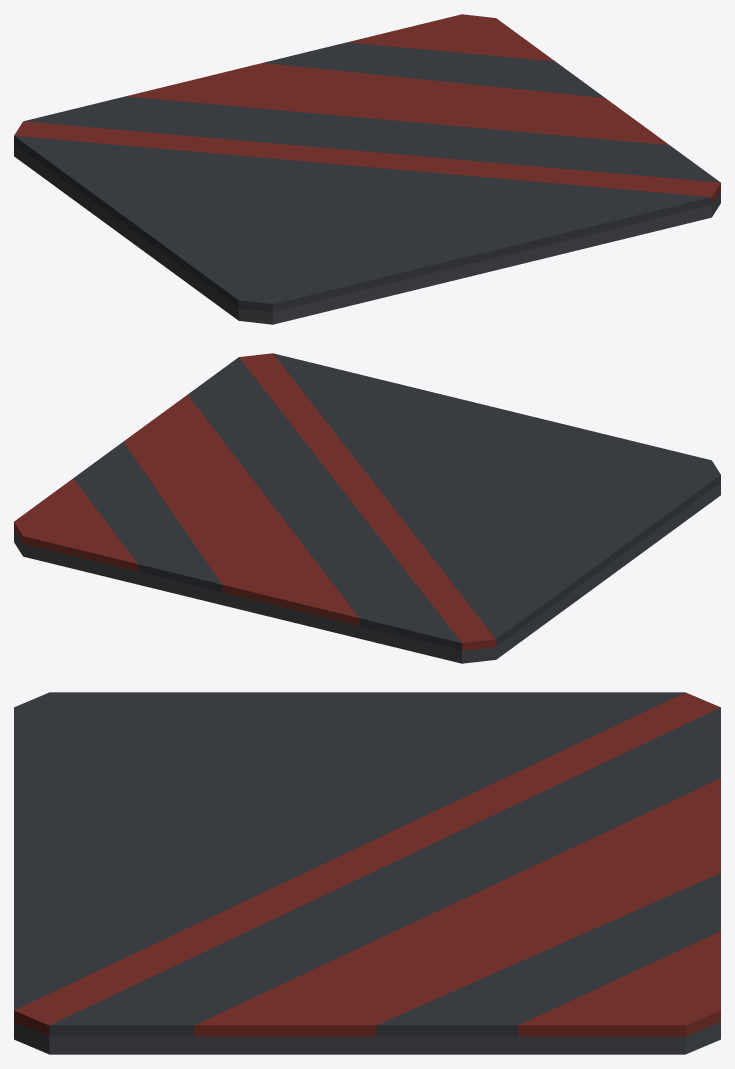
The model's file is SM_Prop_Computer_Mousepad_04.obj.
The picture shows the model from 3 angles, top to bottom: view 1: azimuth 30°, elevation 25°; view 2: azimuth 150°, elevation 25°; view 3: azimuth 270°, elevation 25°; orthographic projection. The views are drawn at different scales.
Visible parts, largest first — view 1: SM_Prop_Computer_Mousepad_04_0; view 2: SM_Prop_Computer_Mousepad_04_0; view 3: SM_Prop_Computer_Mousepad_04_0.
Part boxes in pixels (box(x1,y1,x2,y2)): SM_Prop_Computer_Mousepad_04_0: box(14, 14, 720, 324); SM_Prop_Computer_Mousepad_04_0: box(14, 353, 720, 663); SM_Prop_Computer_Mousepad_04_0: box(14, 692, 720, 1054).
Bounding box in the file's own units: 0.3412 × 0.0139 × 0.3062.
1 material, 1 textured.
